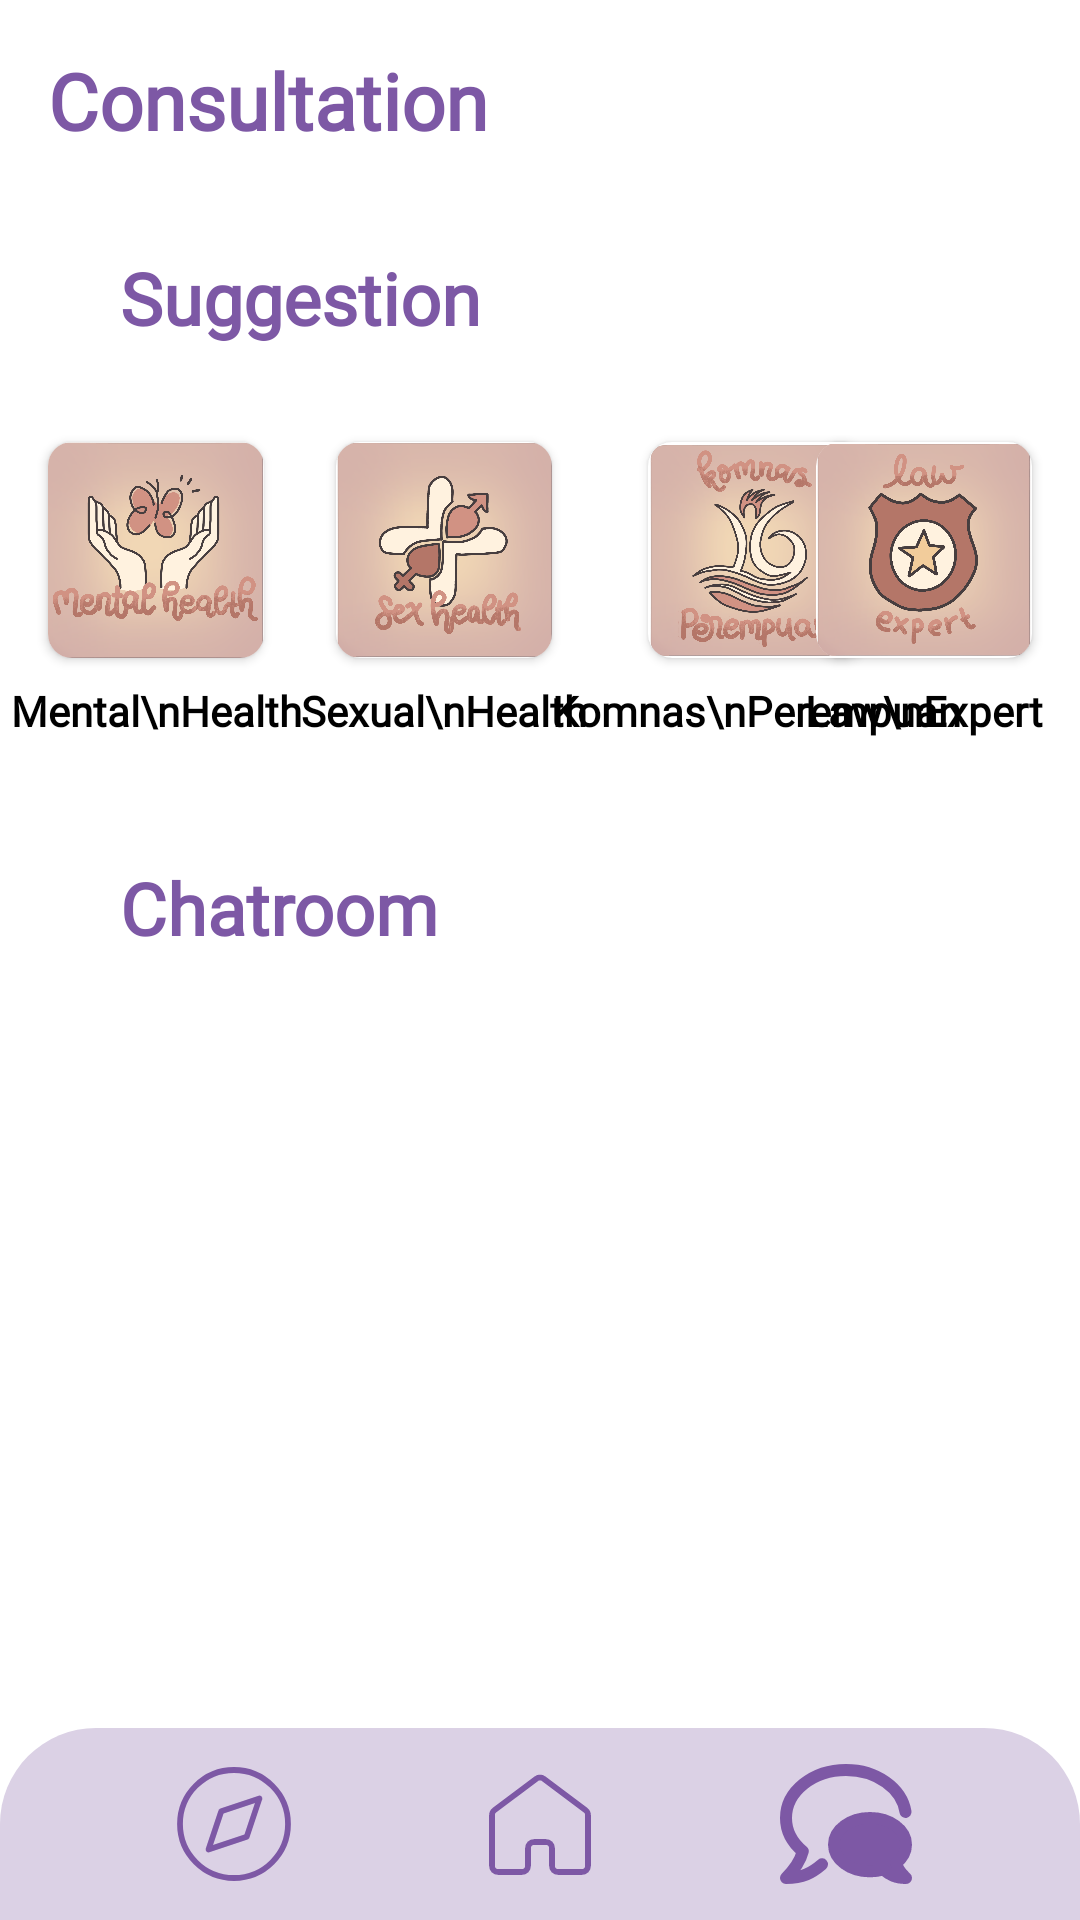

Locate icon controls on the screen. Image size 1080px×1920px, boxes as Rect(x1, y1, x2, y2).
chats: Rect(780, 1764, 912, 1884)
compass: Rect(177, 1767, 291, 1881)
home: Rect(489, 1774, 591, 1875)
